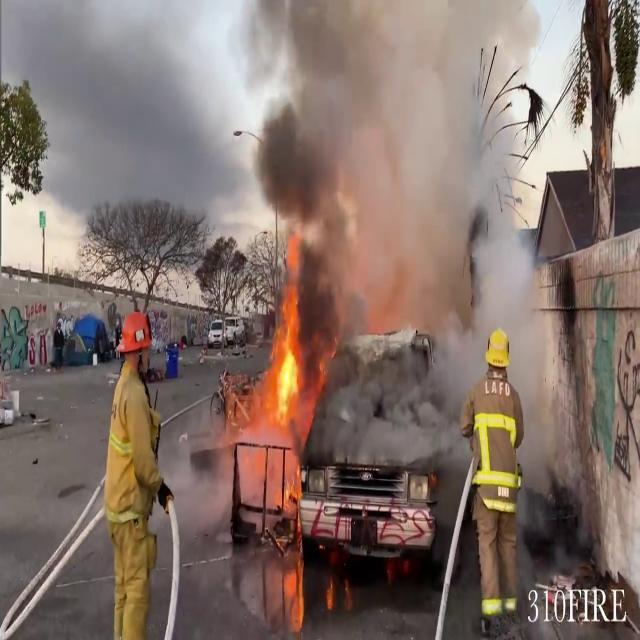Fire: (267, 249, 309, 422)
Smoke: (243, 0, 566, 263)
